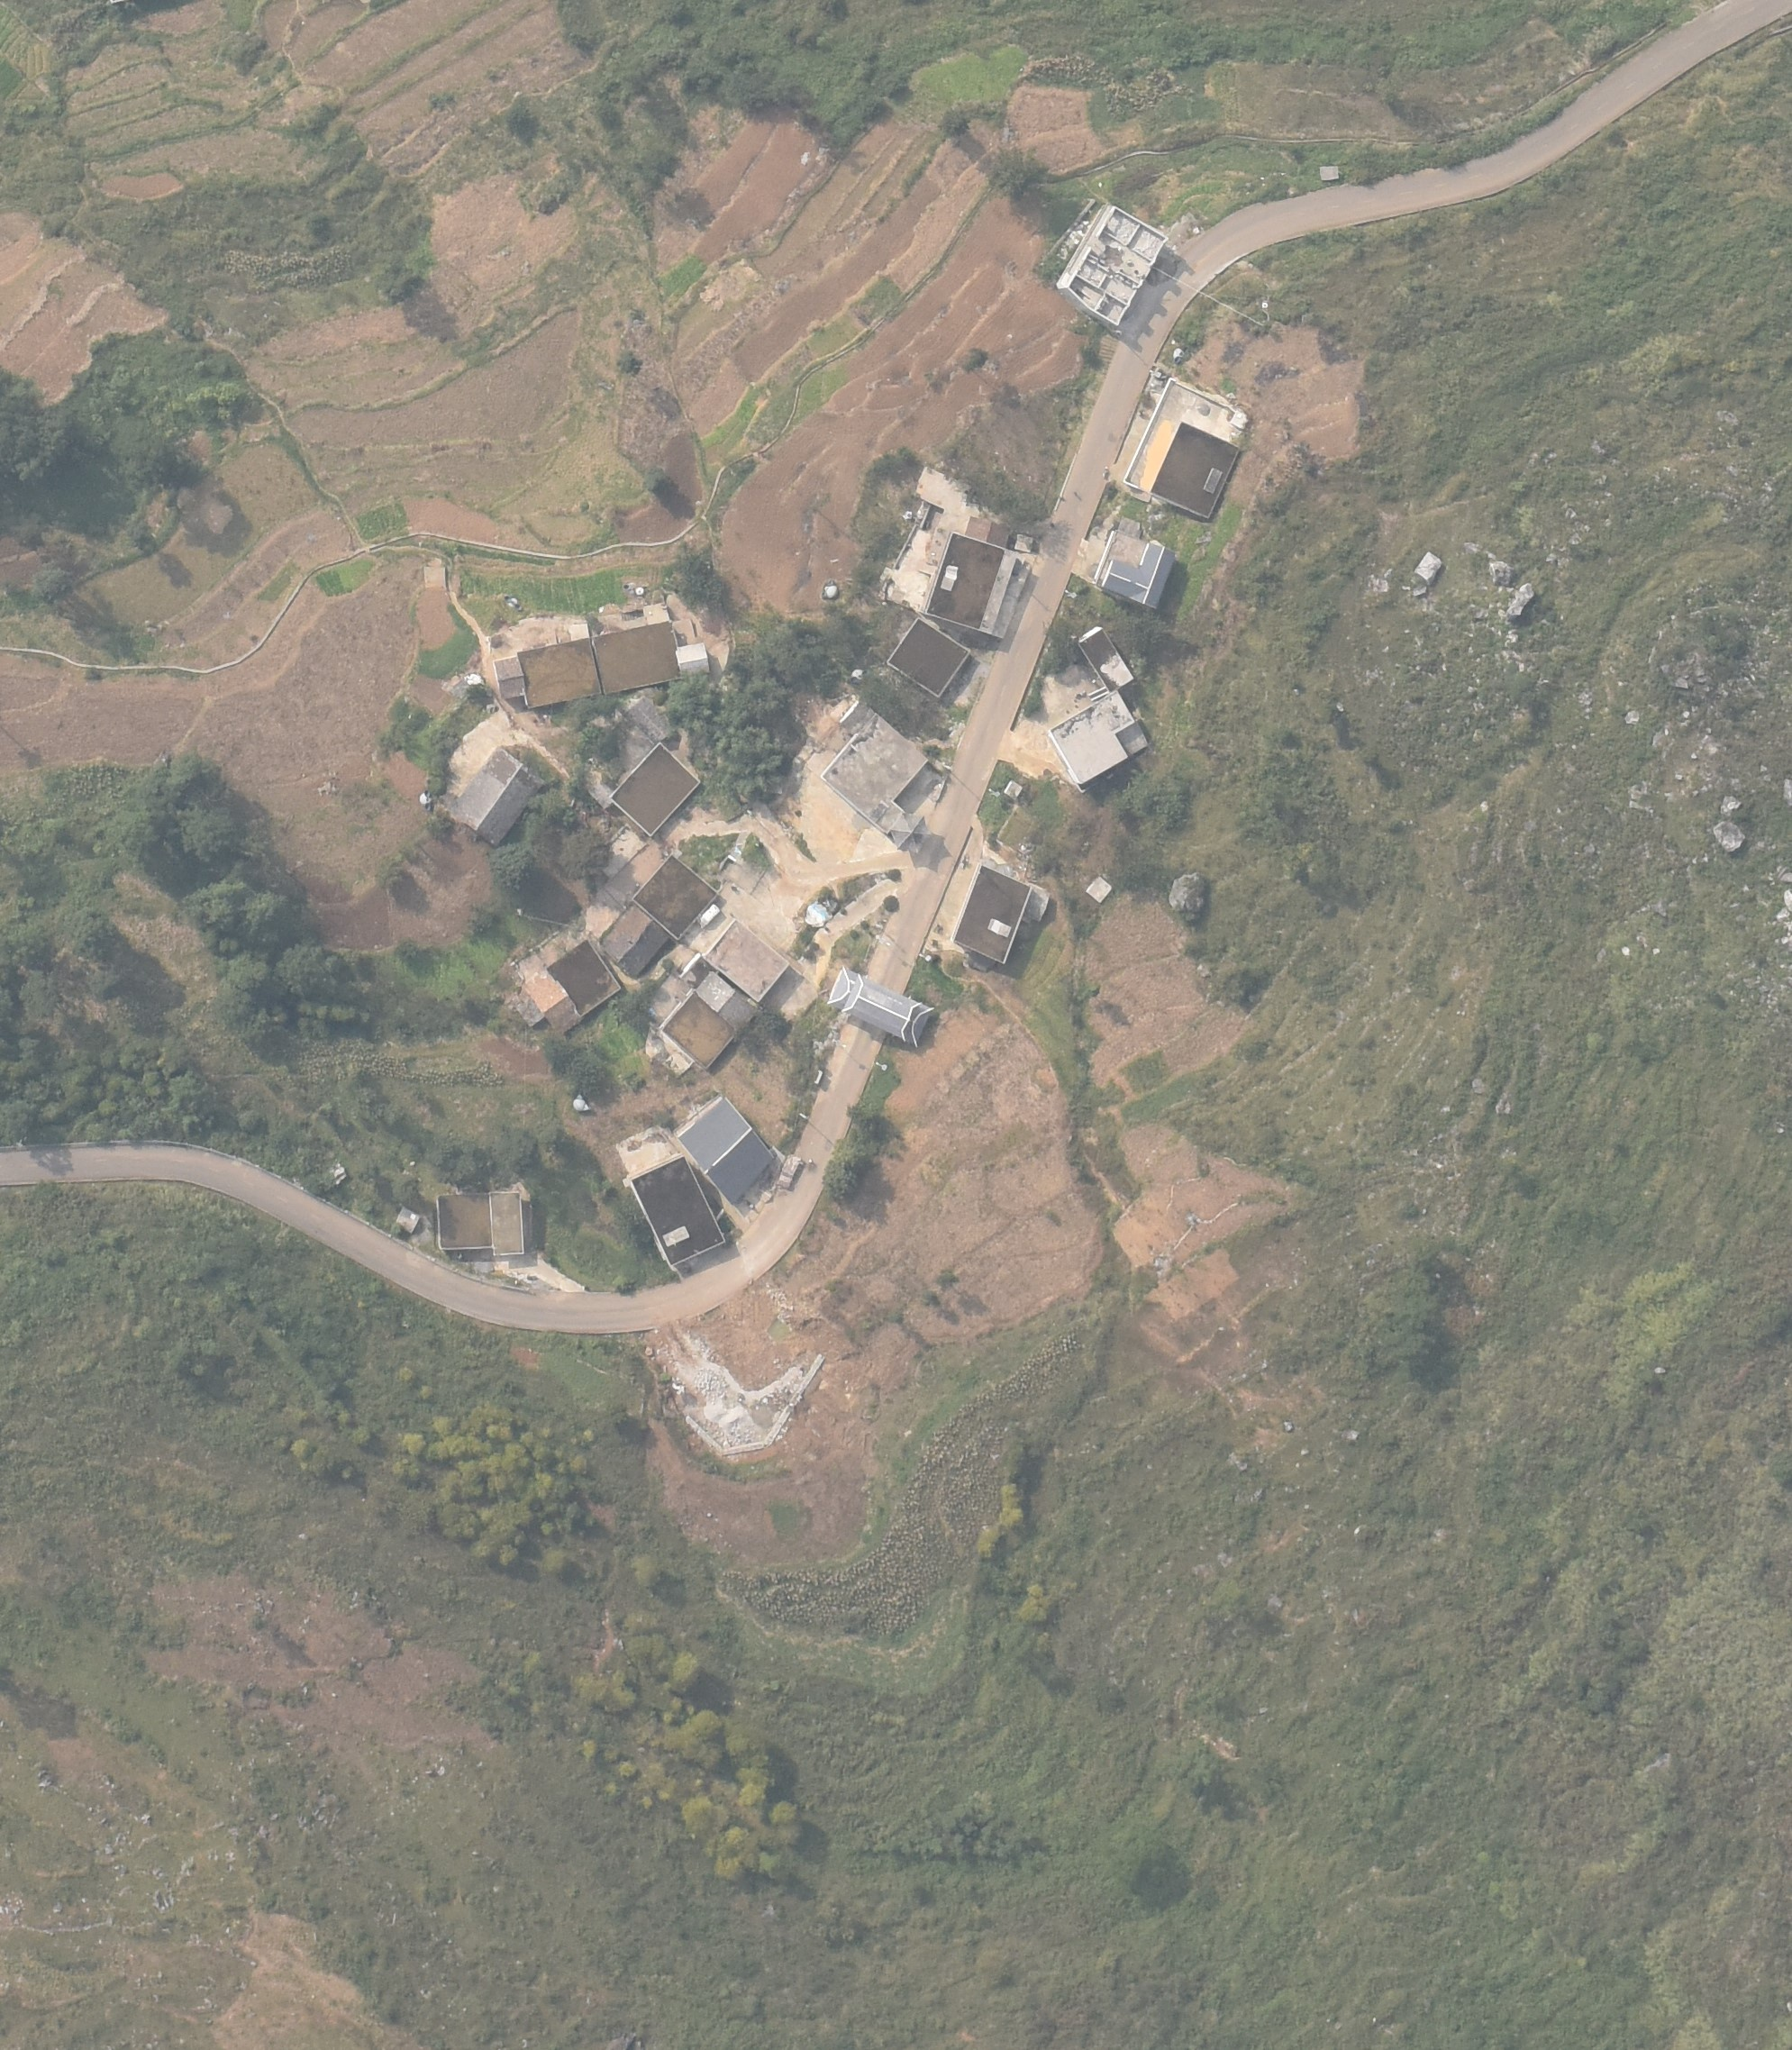building: (1123, 378, 1240, 521), (1056, 205, 1169, 327), (820, 712, 927, 834), (923, 531, 1030, 637), (630, 1156, 727, 1266), (678, 1094, 775, 1202), (450, 749, 546, 848), (827, 965, 936, 1047), (1049, 688, 1137, 788), (610, 743, 702, 837), (951, 868, 1030, 966), (632, 854, 720, 938), (704, 918, 789, 1000), (887, 618, 971, 698), (516, 638, 603, 712), (594, 620, 680, 694), (657, 990, 734, 1071), (435, 1192, 525, 1257), (548, 940, 623, 1017), (1099, 540, 1176, 608), (601, 909, 669, 978), (696, 972, 755, 1025), (493, 654, 523, 697)
prefabricated-house: (674, 641, 709, 672)
quarry: (669, 1331, 824, 1456)
